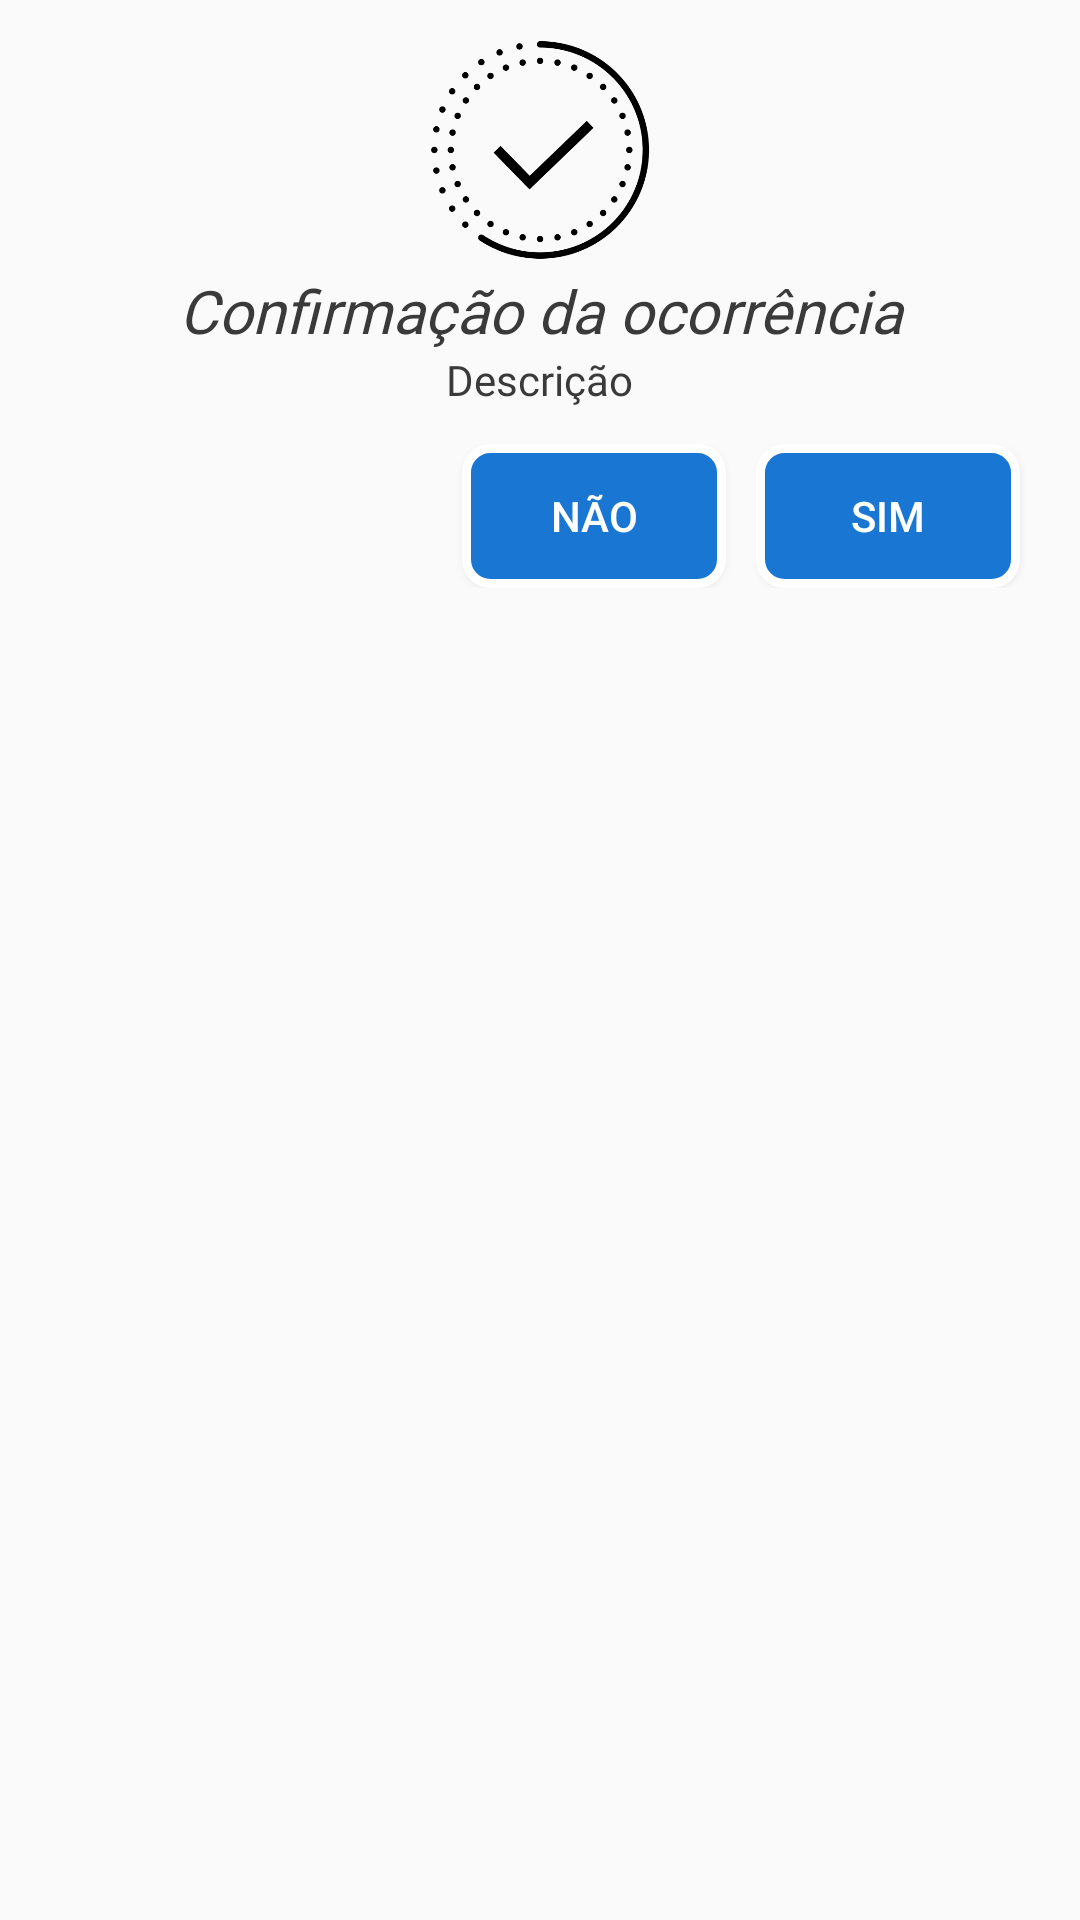

Icon click points for this 1080x1920 phone screenshot, format [x,y]:
verification dialog: [540,150]
